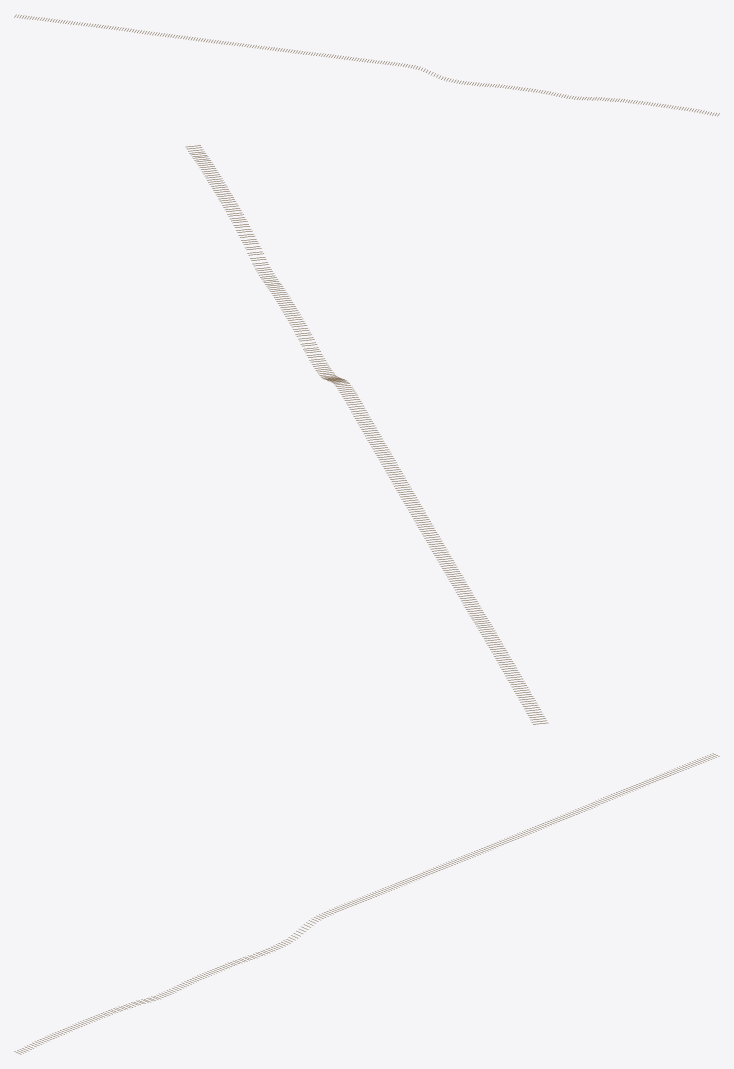
Rendered from c_1622_17825_rail_sleeper.glb.
3 views of the same model, one above another, from view 1: azimuth 30°, elevation 25°; view 2: azimuth 150°, elevation 25°; view 3: azimuth 270°, elevation 25° (orthographic). The views are drawn at different scales.
Visible parts, largest first — view 1: geometry_0; view 2: geometry_0; view 3: geometry_0.
Part boxes in pixels (left/top/right/bottom): geometry_0: left=14, top=14, right=719, bottom=116; geometry_0: left=185, top=145, right=548, bottom=724; geometry_0: left=14, top=753, right=719, bottom=1054.
Bounding box in the file's own units: 154 × 4.32 × 161.
